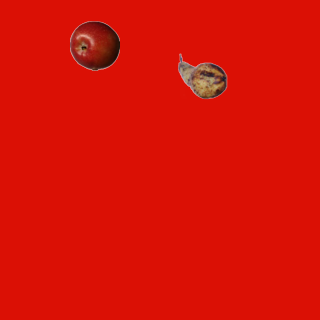Apple Braeburn: (69, 20, 119, 70)
Pear Abate: (177, 51, 227, 101)
